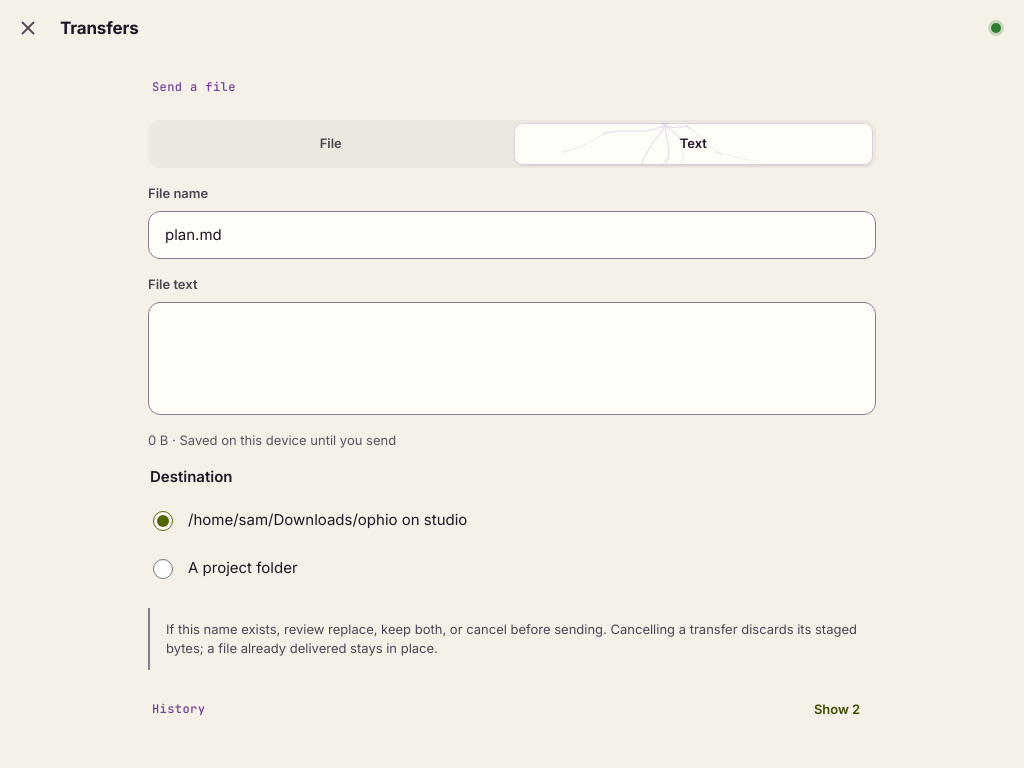
Test: counts attachments fetched to show in tasks rather than listing them
What coordinates should you click on to do the following:
click the button "Show 2"
I would click on:
 (837, 710)
Its box is [802,686,872,734].
(page scrolled)
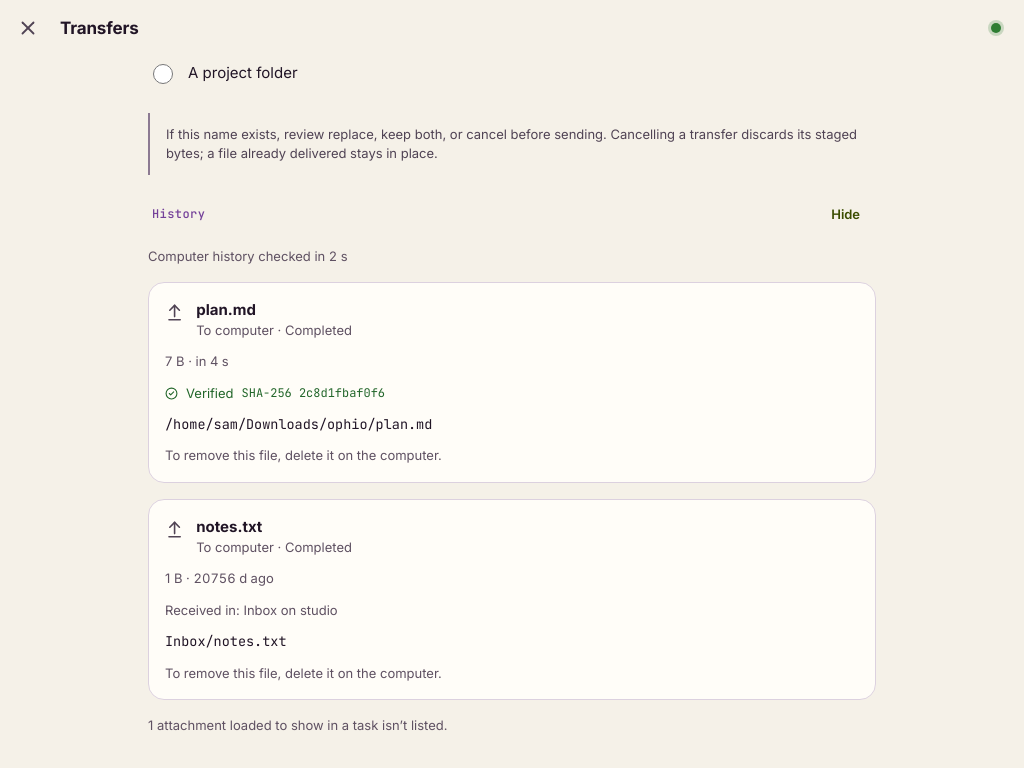
Result: the heading "notes.txt" is shown at [196,517,262,536]
Result: the text "1 attachment loaded to show in a task isn’t listed." is shown at [148,717,448,733]
